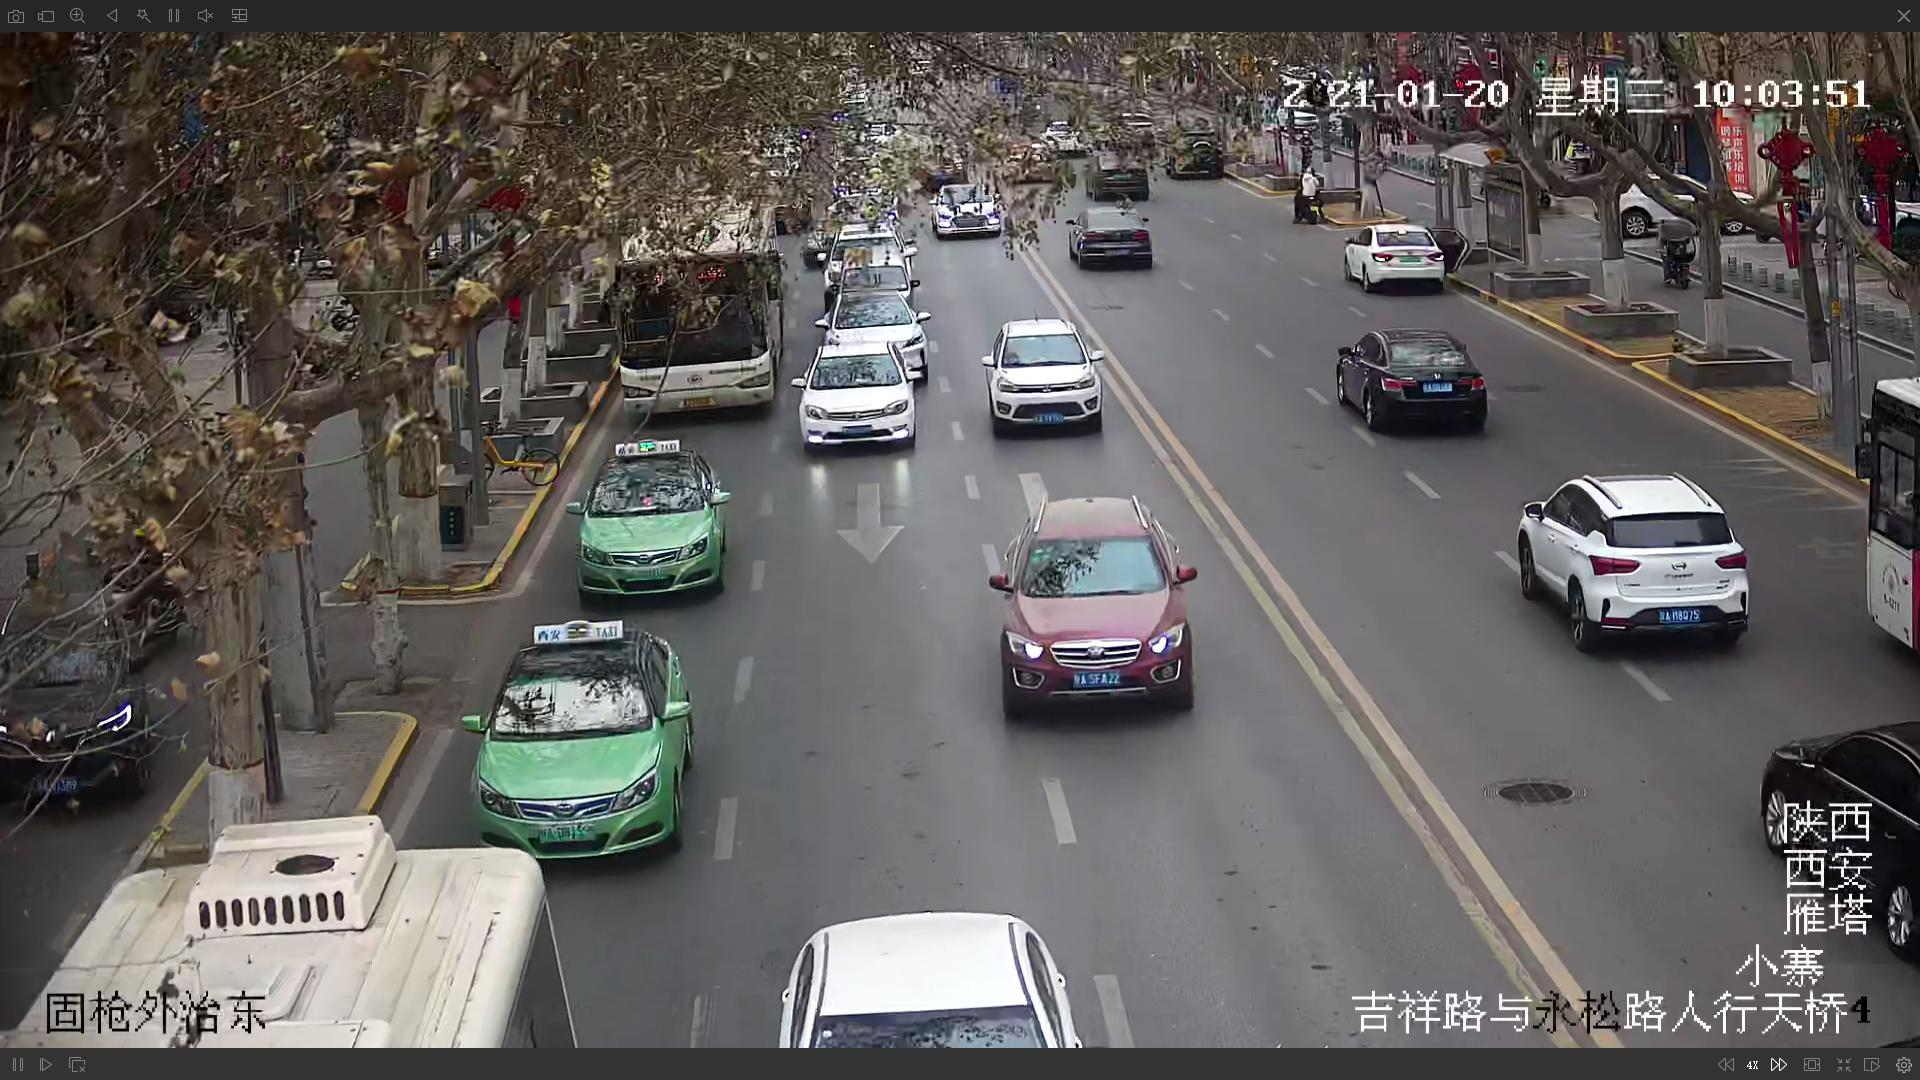dark-red: (988, 487, 1199, 702)
grass-green: (473, 620, 687, 857), (575, 444, 721, 595)
